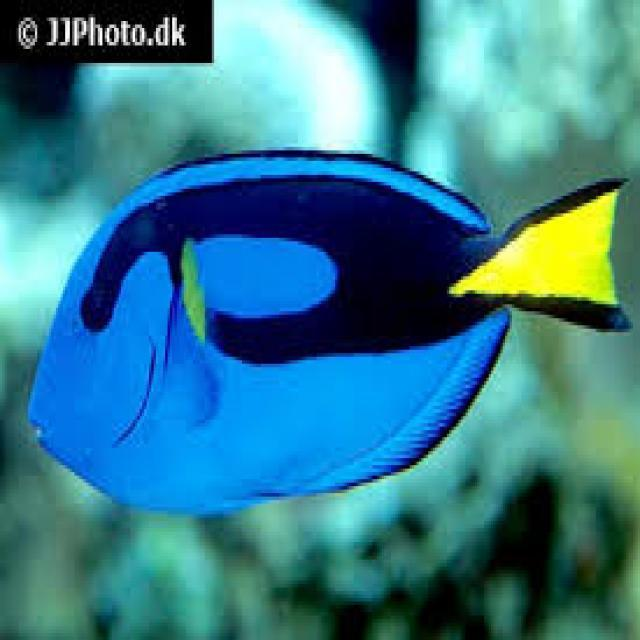BlueTang: (18, 108, 640, 548)
